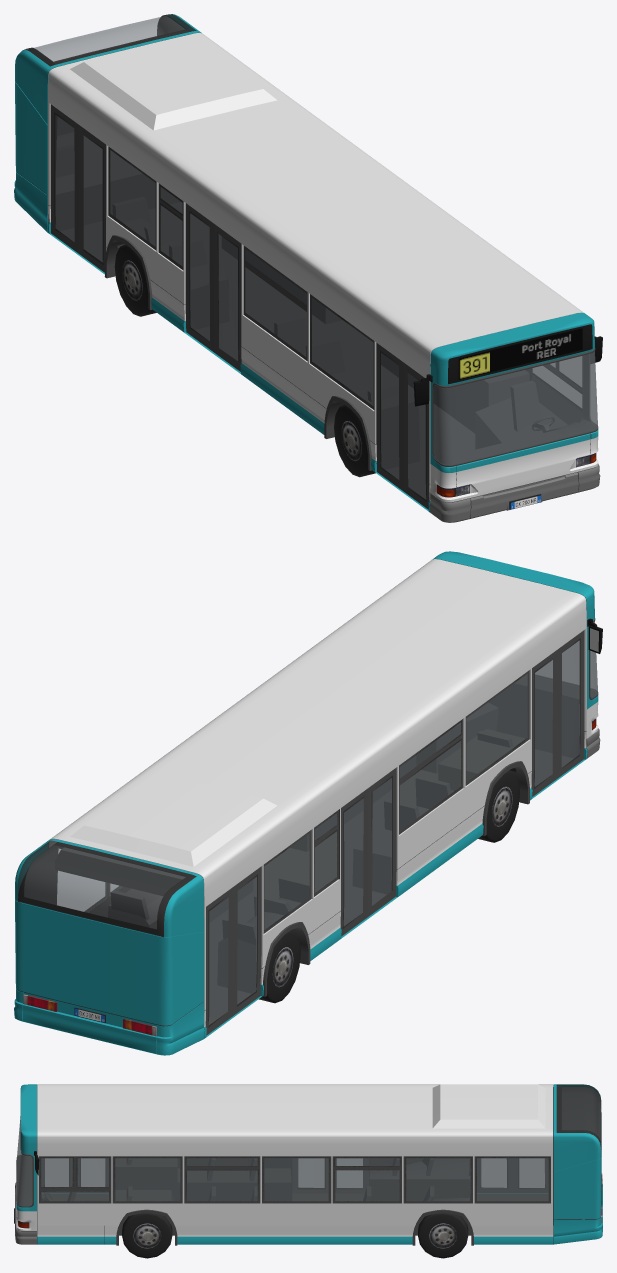
3 views of the same model, one above another, from view 1: azimuth 30°, elevation 25°; view 2: azimuth 150°, elevation 25°; view 3: azimuth 270°, elevation 25° (orthographic). The views are drawn at different scales.
Parts seen in each view (by area): view 1: Object_16, Object_14, Object_9, Object_8, Object_11, Object_15, Object_4, Object_13, Object_10, Object_7, Object_5, Object_3; view 2: Object_16, Object_14, Object_9, Object_8, Object_11, Object_13, Object_7, Object_15, Object_10; view 3: Object_16, Object_14, Object_9, Object_8, Object_11, Object_7, Object_13, Object_15, Object_10, Object_12, Object_4.
Part boxes in pixels (left/top/right/bottom): Object_16: left=48, top=33, right=598, bottom=502; Object_14: left=34, top=16, right=597, bottom=499; Object_9: left=28, top=16, right=596, bottom=499; Object_8: left=14, top=14, right=598, bottom=512; Object_11: left=50, top=104, right=582, bottom=509; Object_15: left=122, top=260, right=596, bottom=509; Object_4: left=429, top=464, right=600, bottom=522; Object_13: left=23, top=14, right=582, bottom=501; Object_10: left=104, top=235, right=598, bottom=470; Object_7: left=114, top=244, right=375, bottom=477; Object_5: left=448, top=324, right=592, bottom=384; Object_3: left=413, top=336, right=602, bottom=406; Object_16: left=49, top=559, right=598, bottom=1026; Object_14: left=24, top=621, right=597, bottom=1024; Object_9: left=18, top=674, right=597, bottom=1026; Object_8: left=14, top=551, right=598, bottom=1055; Object_11: left=84, top=630, right=584, bottom=1035; Object_13: left=17, top=638, right=580, bottom=1027; Object_7: left=259, top=770, right=519, bottom=1003; Object_15: left=23, top=718, right=596, bottom=1036; Object_10: left=263, top=618, right=598, bottom=996; Object_16: left=16, top=1084, right=553, bottom=1236; Object_14: left=16, top=1087, right=601, bottom=1205; Object_9: left=17, top=1087, right=601, bottom=1225; Object_8: left=16, top=1084, right=602, bottom=1244; Object_11: left=39, top=1156, right=550, bottom=1203; Object_7: left=122, top=1213, right=468, bottom=1258; Object_13: left=40, top=1084, right=601, bottom=1201; Object_15: left=14, top=1173, right=602, bottom=1248; Object_10: left=16, top=1149, right=473, bottom=1245; Object_12: left=18, top=1085, right=599, bottom=1244; Object_4: left=15, top=1182, right=36, bottom=1244.
Bounding box in the file's own units: 303 × 302 × 1219.
14 materials, 1 textured.
